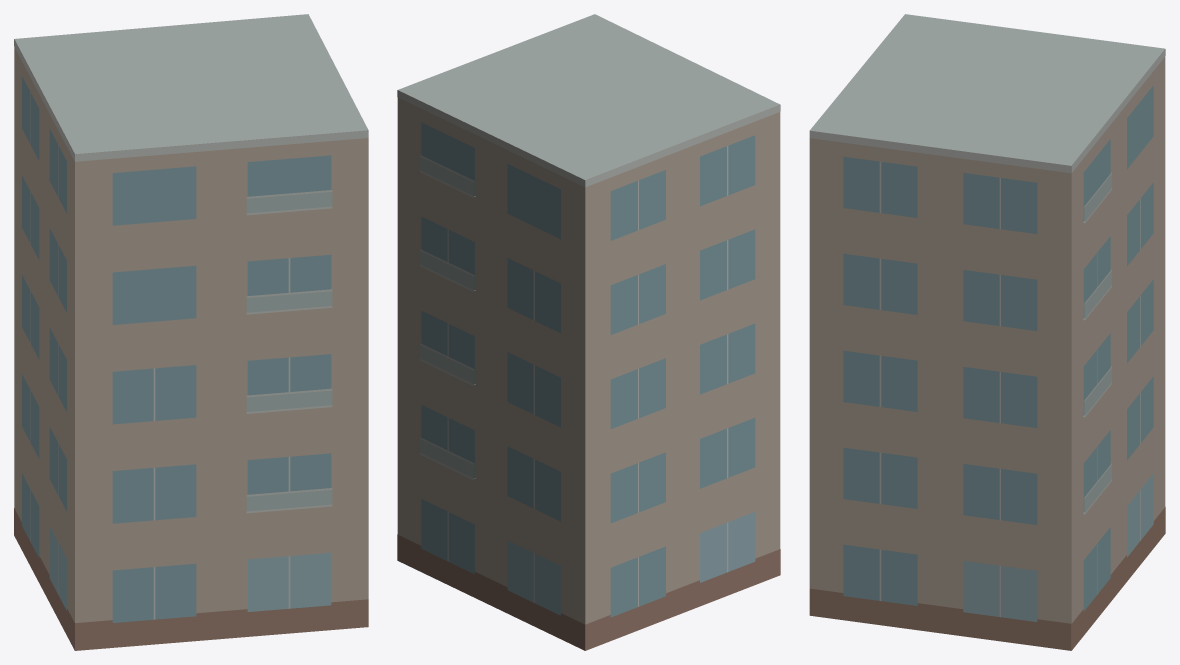
File: survey-upis-32880536.glb
3 renders of one model, left to right at view 1: azimuth 30°, elevation 25°; view 2: azimuth 150°, elevation 25°; view 3: azimuth 270°, elevation 25°, orthographic. The views are drawn at different scales.
Visible parts, largest first — view 1: survey-upis-32880536.tmp; view 2: survey-upis-32880536.tmp; view 3: survey-upis-32880536.tmp.
Part boxes in pixels (left/top/right/bottom): survey-upis-32880536.tmp: left=14, top=14, right=368, bottom=650; survey-upis-32880536.tmp: left=397, top=14, right=780, bottom=650; survey-upis-32880536.tmp: left=809, top=14, right=1165, bottom=650.
Size of the model in its own units: 10.69 by 15.9 by 10.58.
